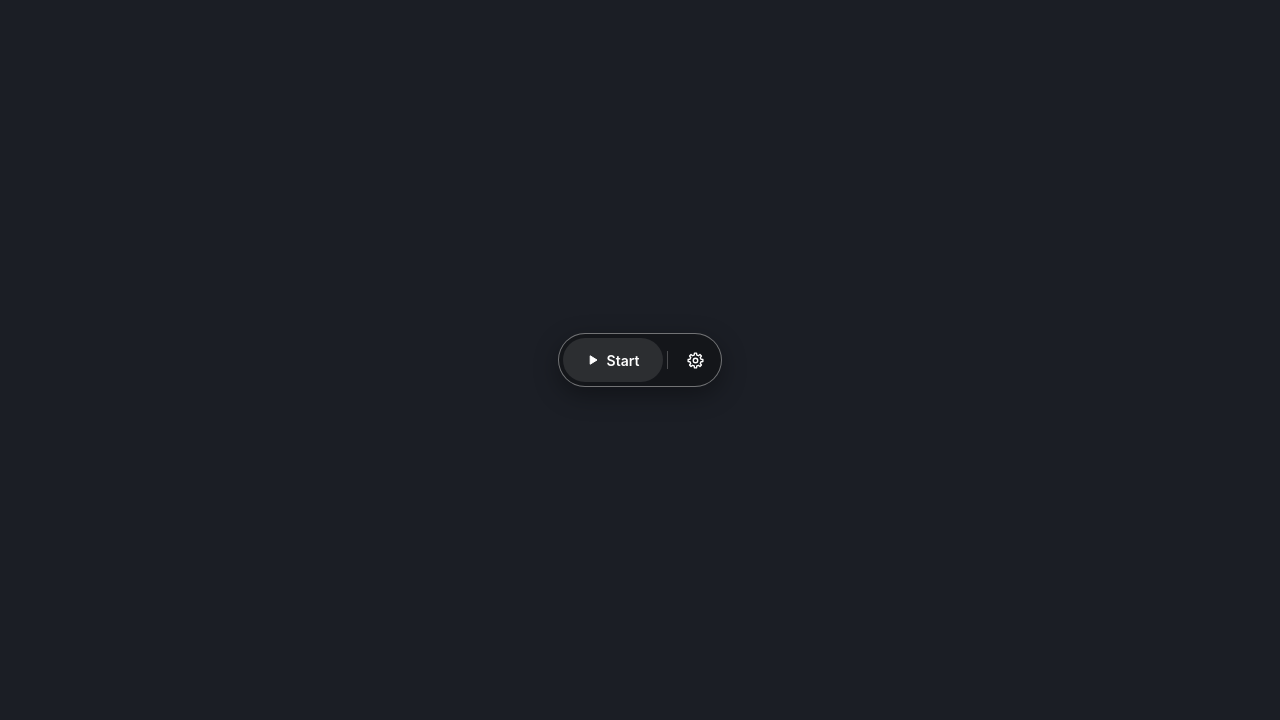
Test: preset picker › clears an invalid field when a preset is applied
Type keys "s"
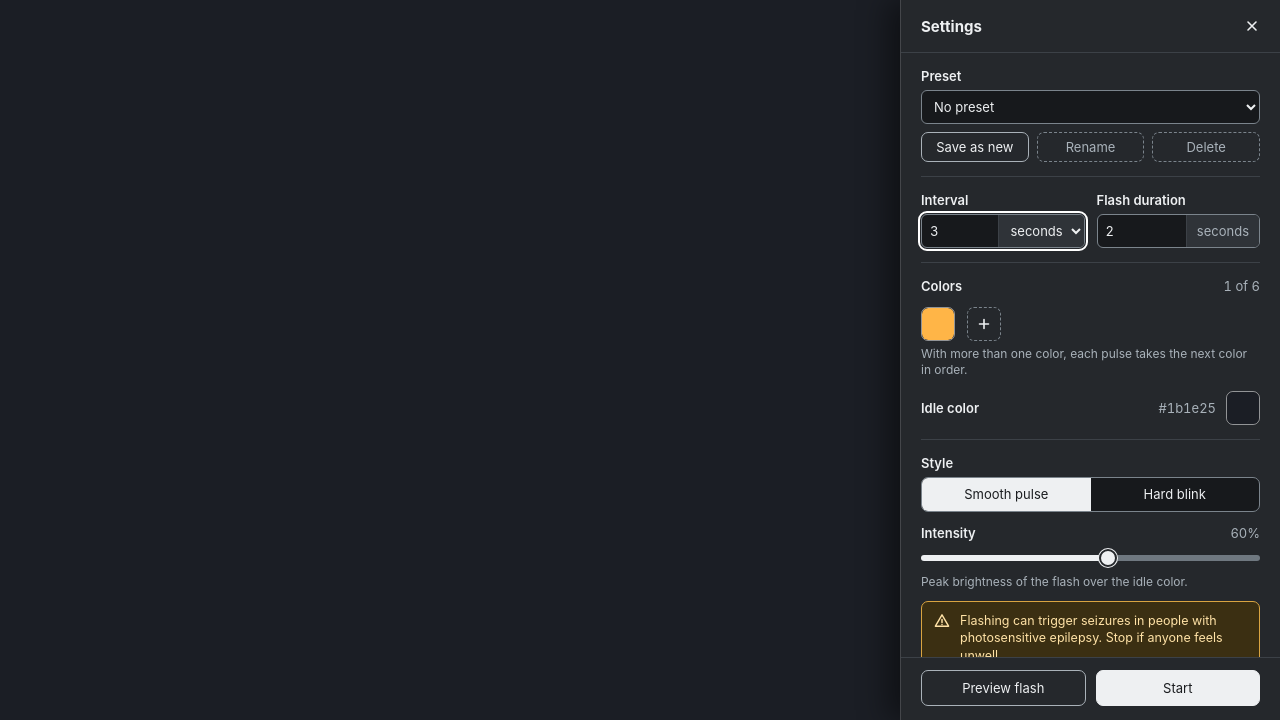
Clear the number field labelled "Interval". click: [960, 231]
box: [922,215,998,247]
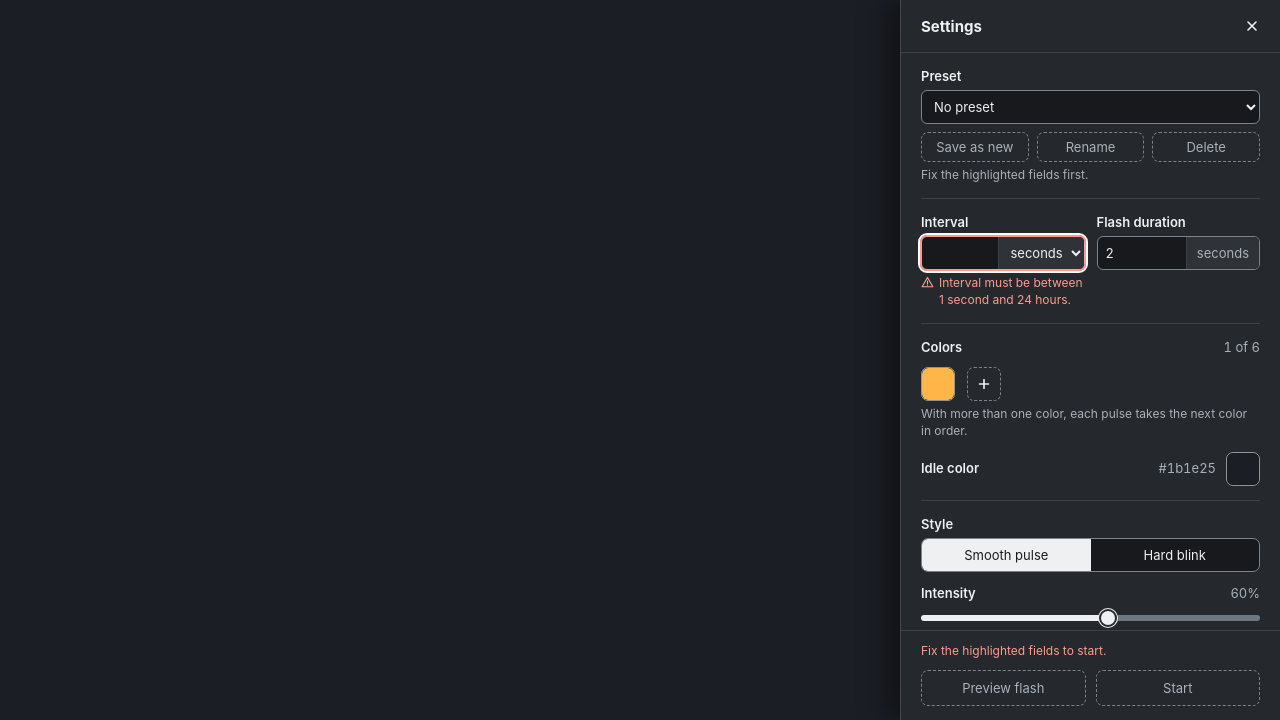
Expected: the text "Interval must be between 1 second and 24 hours." is shown, [939,275,1084,309]
Select "Slow" in the dropdown labelled "Preset". click: [1090, 107]
box: [922,91,1259,123]
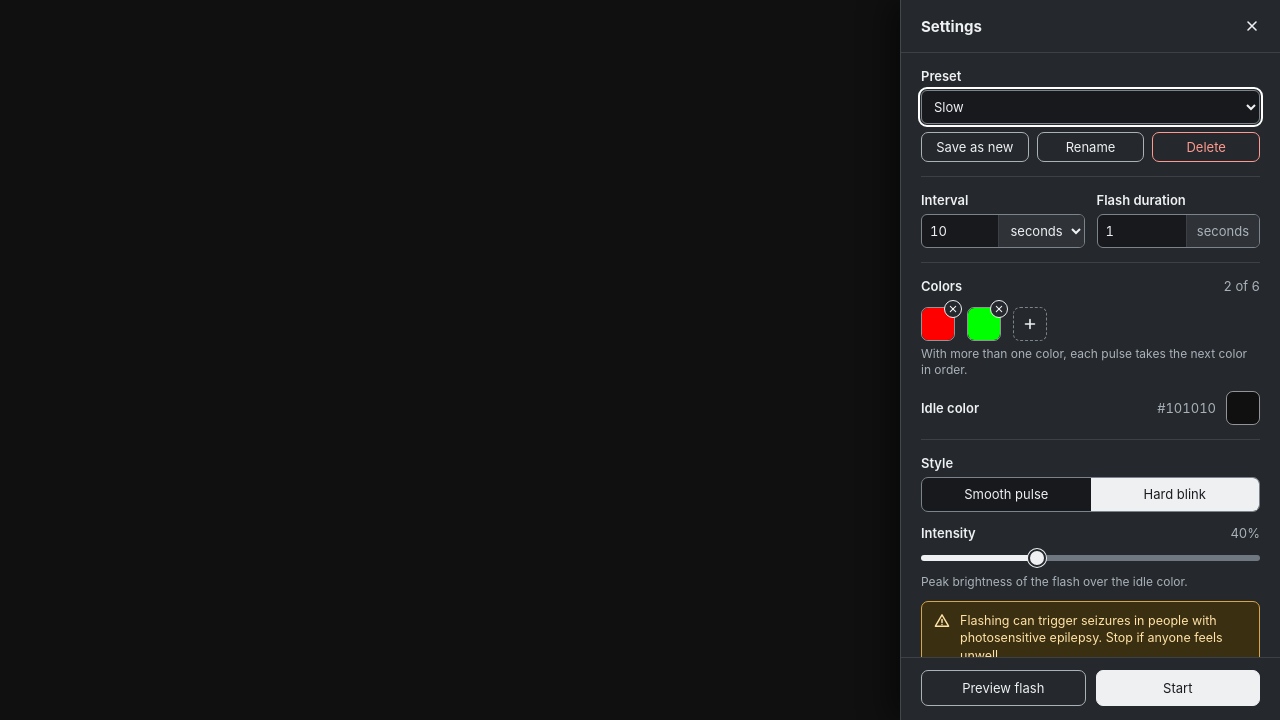
Expected: the text "Interval must be between" is gone
Expected: the number field labelled "Interval" holds "10", [922,215,998,247]
